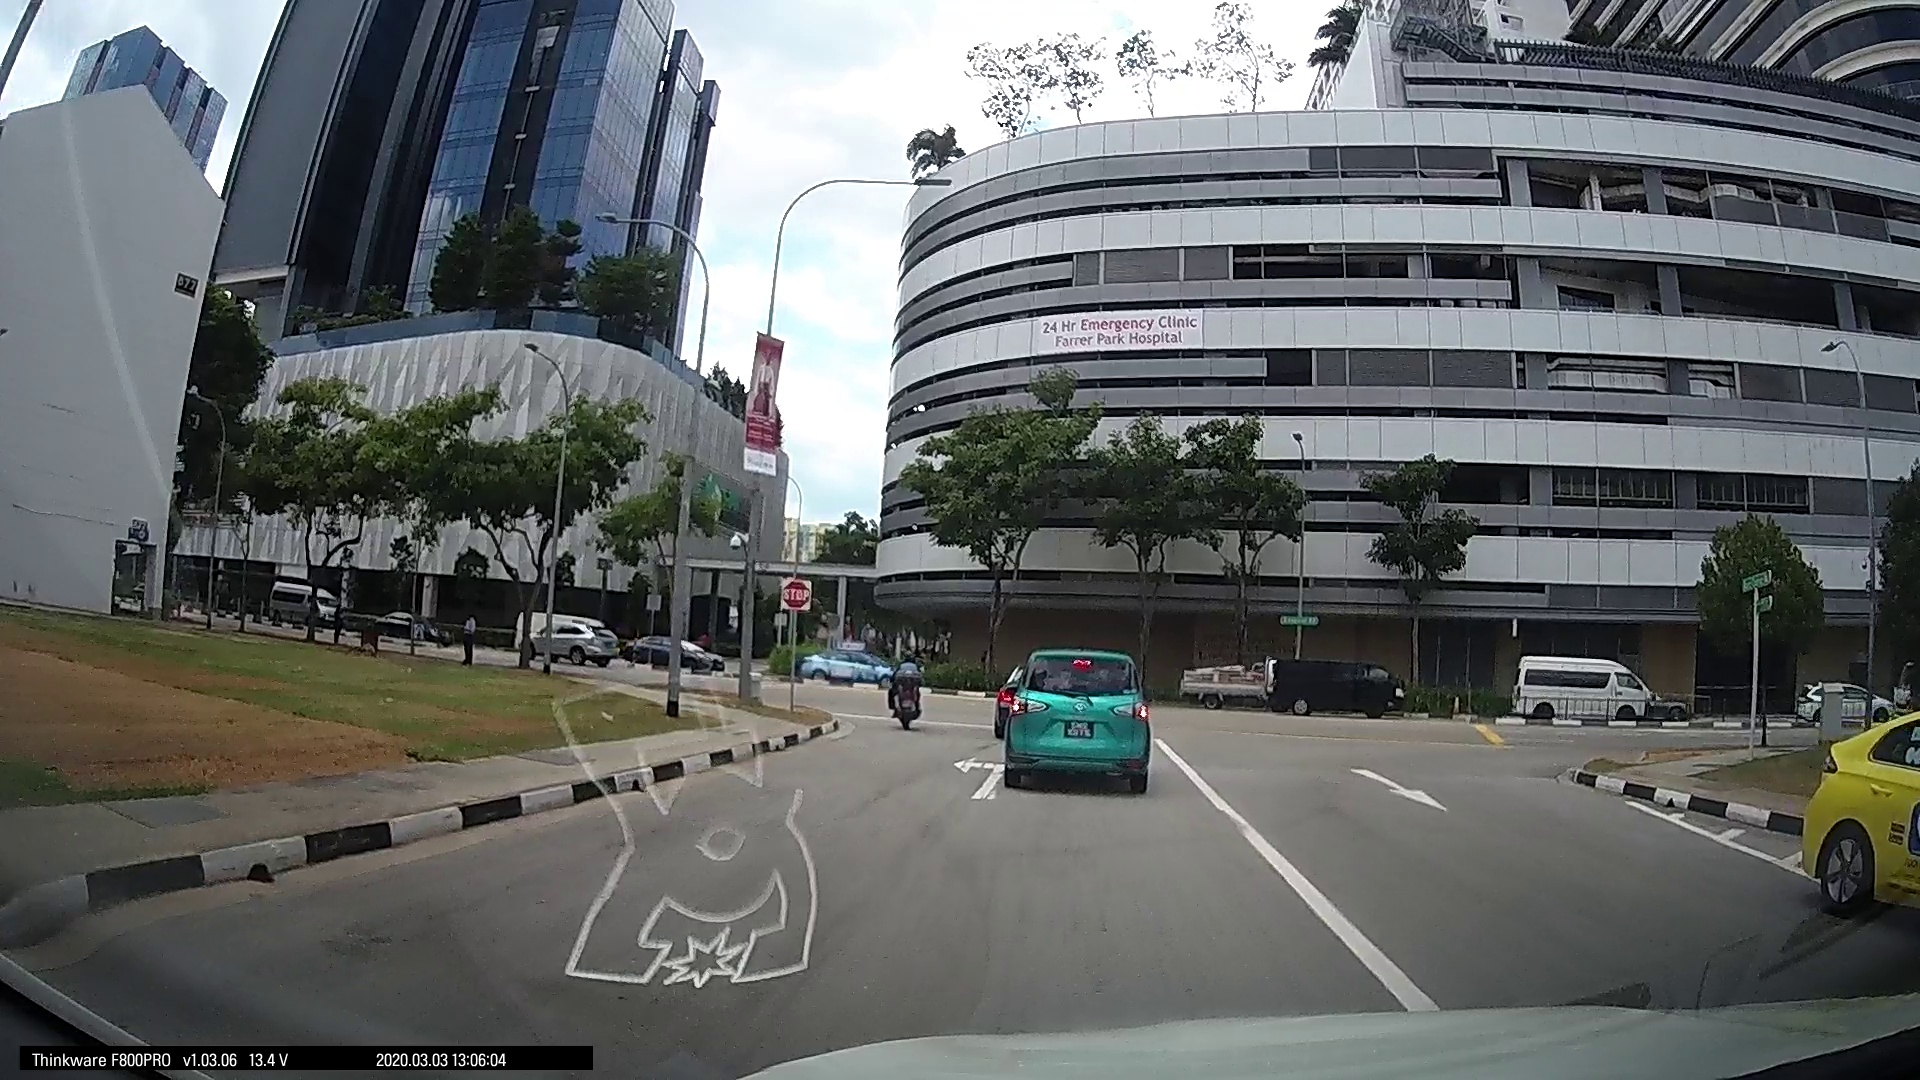Light Vehicle: (1791, 699, 1919, 920), (992, 636, 1154, 794), (1499, 653, 1662, 727), (1261, 650, 1396, 713), (513, 609, 625, 669), (793, 640, 886, 684), (626, 632, 723, 674)
